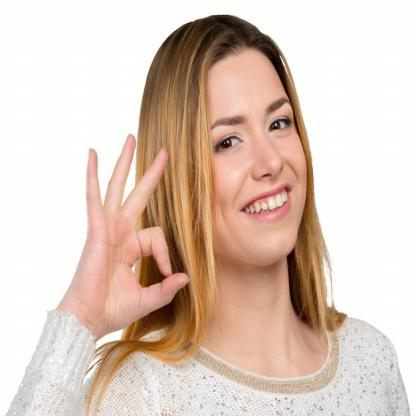ok: (80, 127, 192, 328)
